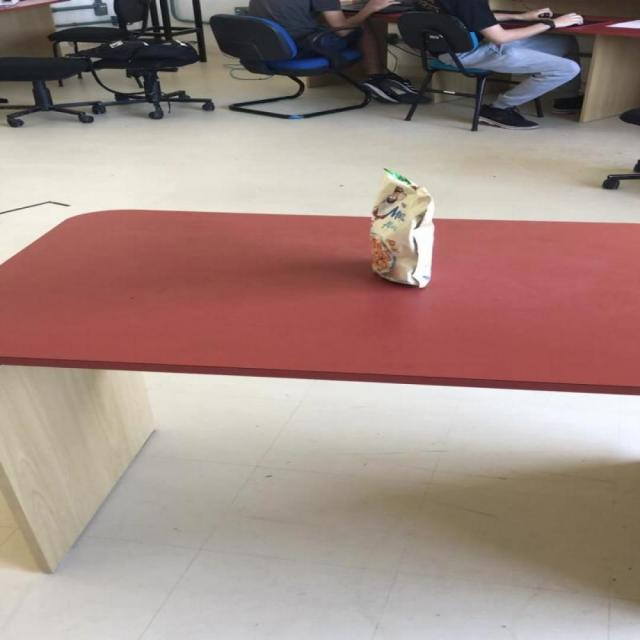CornFlakes: (366, 167, 434, 288)
